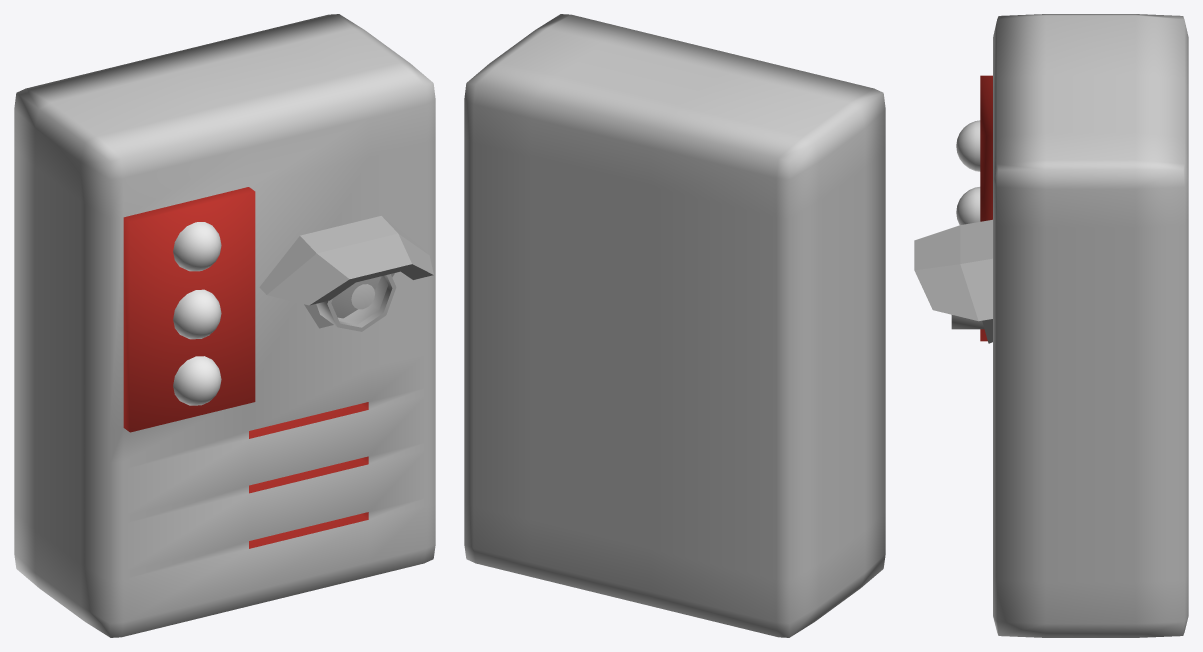
File: KeyPanel.fbx
The picture shows the model from 3 angles, left to right: view 1: azimuth 30°, elevation 25°; view 2: azimuth 150°, elevation 25°; view 3: azimuth 270°, elevation 25°; orthographic projection. The views are drawn at different scales.
Parts seen in each view (by area): view 1: Cube.002, Body, Camera, Sphere.001, Sphere.002, Sphere.003; view 2: Cube.002; view 3: Cube.002, Body, Sphere.001, Sphere.002.
Boxes of the visible parts, x1=… form: Cube.002: x1=14, y1=14, x2=435, y2=637; Body: x1=259, y1=216, x2=433, y2=328; Camera: x1=316, y1=274, x2=396, y2=331; Sphere.001: x1=173, y1=222, x2=221, y2=271; Sphere.002: x1=173, y1=289, x2=221, y2=339; Sphere.003: x1=173, y1=356, x2=221, y2=405; Cube.002: x1=464, y1=14, x2=885, y2=637; Cube.002: x1=980, y1=14, x2=1188, y2=637; Body: x1=914, y1=219, x2=992, y2=343; Sphere.001: x1=956, y1=120, x2=980, y2=171; Sphere.002: x1=956, y1=187, x2=980, y2=224.
Bounding box in the file's own units: 2 × 2.78 × 1.45.
